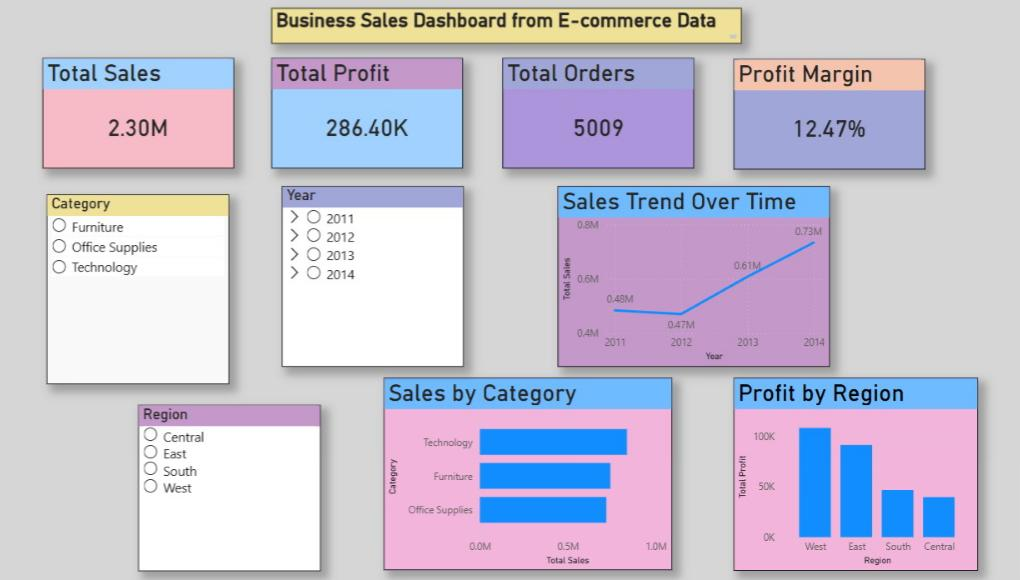

The page's visual inventory and layout, read from the dashboard file:
{"tool":"powerbi","page":{"name":"Page 1","canvas":[1280,720],"ordinal":0},"visuals":[{"type":"card","title":"Total Sales","fields":{"Values":["Orders.Total Sales"]},"box":[70,74.1,236,135.8],"z":0},{"type":"card","title":"Total Orders","fields":{"Values":["Orders.Total Orders"]},"box":[636.7,74.1,236,135.8],"z":1000},{"type":"card","title":"Total Profit","fields":{"Values":["Orders.Total Profit"]},"box":[352.7,74.1,236,135.8],"z":2000},{"type":"card","title":"Profit Margin","fields":{"Values":["Orders.Profit Margin %"]},"box":[922.1,75.5,236,135.8],"z":3000},{"type":"lineChart","title":"Sales Trend Over Time","fields":{"Category":["Orders.Order Date.Variation.Date Hierarchy.Year","Orders.Order Date.Variation.Date Hierarchy.Quarter","Orders.Order Date.Variation.Date Hierarchy.Month","Orders.Order Date.Variation.Date Hierarchy.Day"],"Y":["Orders.Total Sales"]},"box":[705.3,231.9,334.8,222.3],"z":4000},{"type":"clusteredBarChart","title":"Sales by Category","fields":{"Y":["Orders.Total Sales"],"Category":["Orders.Category"]},"box":[491,467.9,355.1,237.2],"z":5000},{"type":"clusteredColumnChart","title":"Profit by Region","fields":{"Category":["Orders.Region"],"Y":["Orders.Total Profit"]},"box":[922.1,467.9,300.5,237.4],"z":6000},{"type":"listSlicer","fields":{"Values":["Orders.Order Date.Variation.Date Hierarchy.Year","Orders.Order Date.Variation.Date Hierarchy.Quarter","Orders.Order Date.Variation.Date Hierarchy.Month","Orders.Order Date.Variation.Date Hierarchy.Day"]},"box":[365,231.9,223.7,222.3],"z":7000},{"type":"listSlicer","fields":{"Values":["Orders.Category"]},"box":[75.5,242.9,225,233.3],"z":8000},{"type":"listSlicer","fields":{"Values":["Orders.Region"]},"box":[188,500.9,225,204.5],"z":9000},{"type":"textbox","title":" Business Sales Dashboard from E-commerce Data","box":[352.7,12.3,579.1,43.9],"z":9001}]}

Visuals, with their boxes in screenshot pixels (x1, y1, x2, y2), scaled from the page's 1280x720 canvas onto the 1020x580 screenshot:
"Total Sales" card: <bbox>56, 60, 244, 169</bbox>
"Total Orders" card: <bbox>507, 60, 695, 169</bbox>
"Total Profit" card: <bbox>281, 60, 469, 169</bbox>
"Profit Margin" card: <bbox>735, 61, 923, 170</bbox>
"Sales Trend Over Time" lineChart: <bbox>562, 187, 829, 366</bbox>
"Sales by Category" clusteredBarChart: <bbox>391, 377, 674, 568</bbox>
"Profit by Region" clusteredColumnChart: <bbox>735, 377, 974, 568</bbox>
listSlicer - Orders.Order Date.Variation.Date Hierarchy.Year x Orders.Order Date.Variation.Date Hierarchy.Quarter: <bbox>291, 187, 469, 366</bbox>
listSlicer - Orders.Category: <bbox>60, 196, 239, 384</bbox>
listSlicer - Orders.Region: <bbox>150, 404, 329, 568</bbox>
" Business Sales Dashboard from E-commerce Data" textbox: <bbox>281, 10, 743, 45</bbox>
